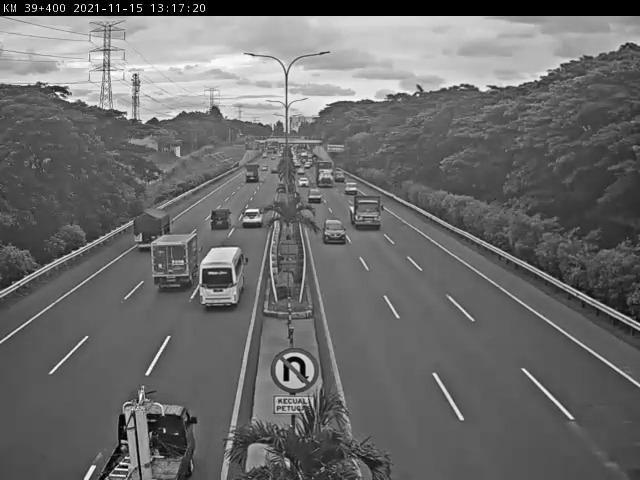bus-s-: (196, 246, 245, 311)
car: (322, 219, 347, 248)
truck-m-: (149, 234, 196, 290), (131, 210, 174, 250), (348, 190, 383, 231)
